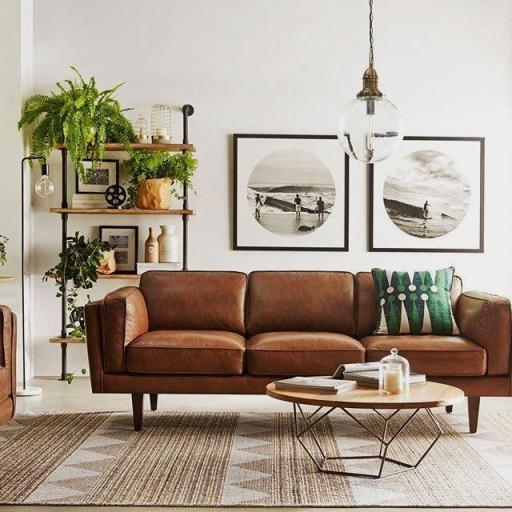sofa: (42, 218, 512, 442)
